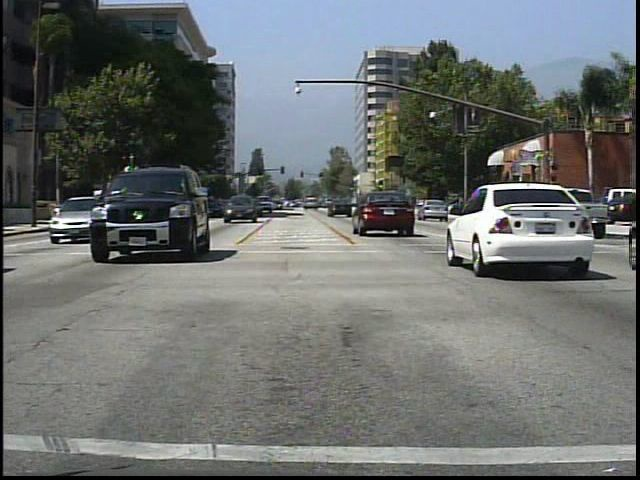person: (547, 190, 566, 228), (501, 188, 518, 224)
